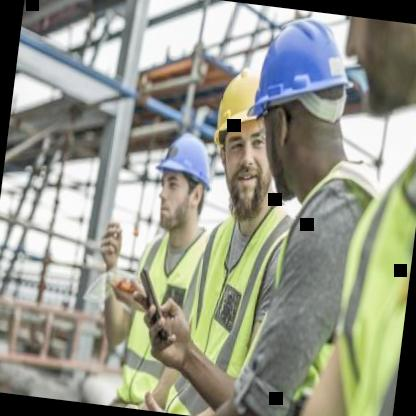helmet: (230, 8, 372, 210), (204, 63, 289, 224), (151, 126, 224, 241)
